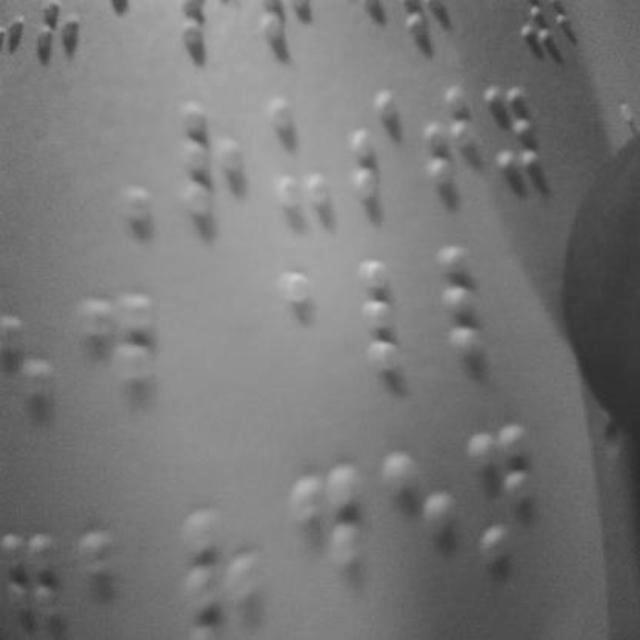braiile: (76, 277, 160, 449), (462, 421, 538, 587), (287, 458, 365, 618), (380, 444, 454, 606), (173, 95, 249, 239), (342, 80, 416, 214), (0, 306, 64, 458), (359, 254, 435, 382), (440, 239, 516, 365), (278, 261, 346, 391), (263, 91, 333, 215), (416, 78, 480, 210), (480, 76, 540, 190)
